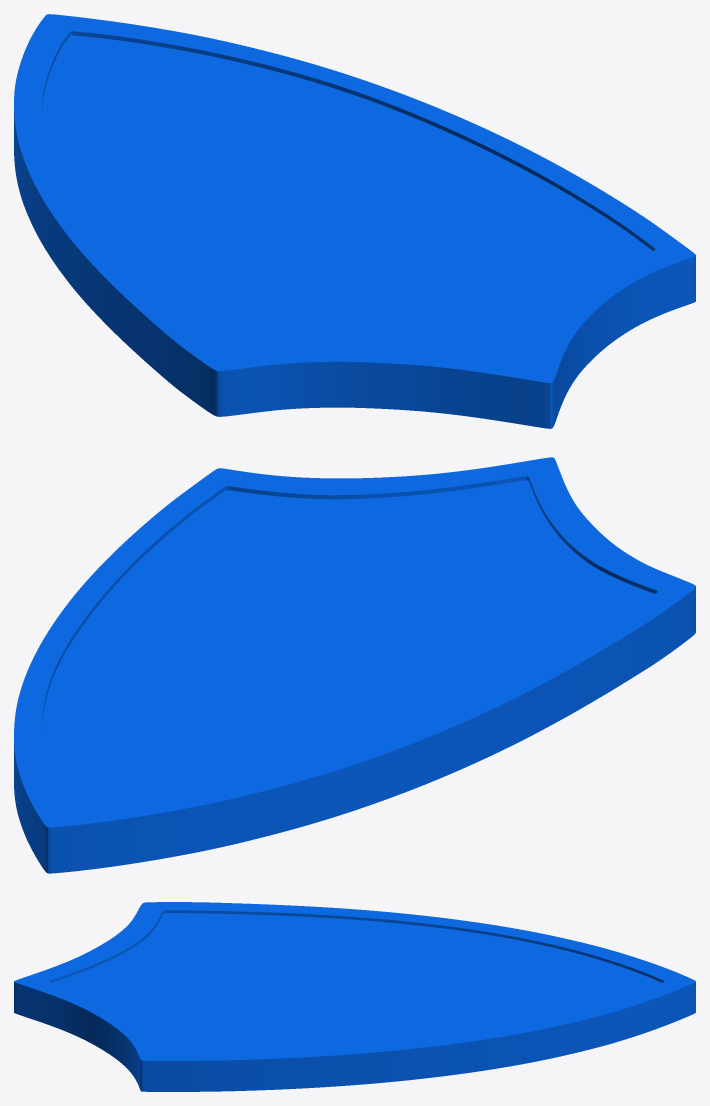
File: Shield.fbx
3 renders of one model, top to bottom at view 1: azimuth 30°, elevation 25°; view 2: azimuth 150°, elevation 25°; view 3: azimuth 270°, elevation 25°, orthographic. The views are drawn at different scales.
Parts seen in each view (by area): view 1: ShieldRing; view 2: ShieldRing; view 3: ShieldRing.
Boxes of the visible parts, x1,y1,x2,y2 form: ShieldRing: (14,14,695,428); ShieldRing: (14,457,695,873); ShieldRing: (14,902,695,1091).
Bounding box in the file's own units: 250 × 22.75 × 453.
